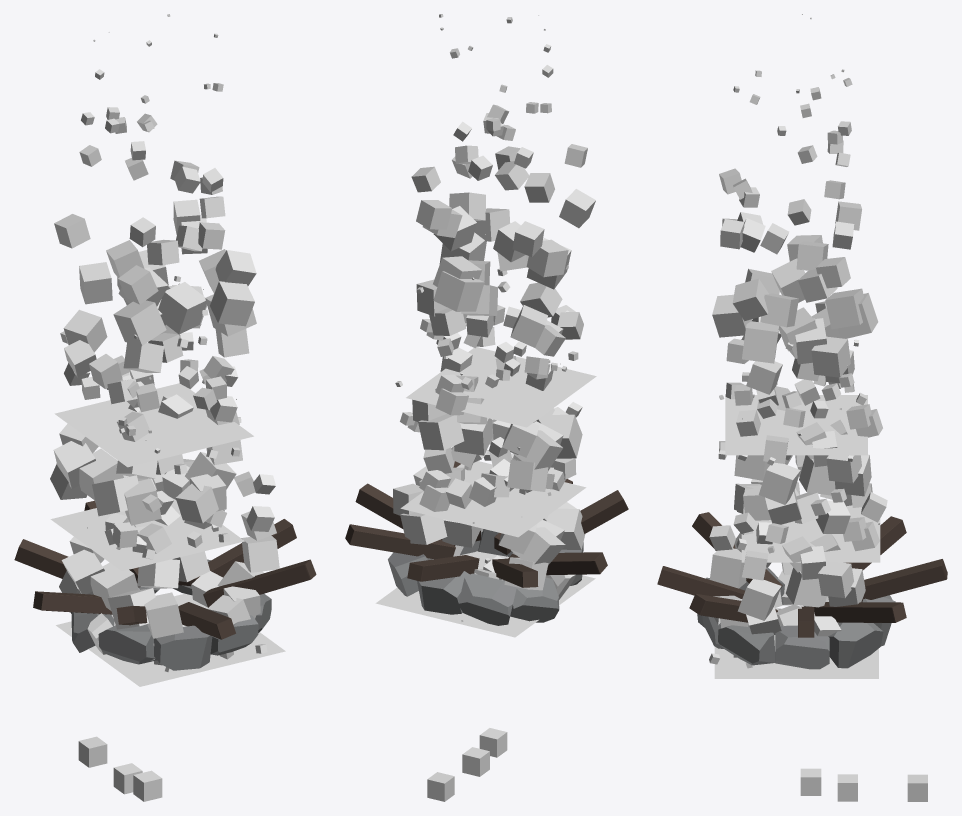
File: campfire.fbx
3 renders of one model, left to right at view 1: azimuth 30°, elevation 25°; view 2: azimuth 150°, elevation 25°; view 3: azimuth 270°, elevation 25°, orthographic. The views are drawn at different scales.
Parts seen in each view (by area): view 1: Smoke, UPFire, FIreBottom, Cube.008, Cube.009, Smoke|SmokeCube|Dupli|146, Cube.016, Smoke|SmokeCube|Dupli|143, Smoke|SmokeCube|Dupli|141, Cube.014, FIreBottom|Cube|Dupli|158, Cube.013 (+48 smaller); view 2: Smoke, UPFire, FIreBottom, Cube.004, Cube.017, Cube.005, Cube.003, Smoke|SmokeCube|Dupli|144, Cube.012, UPFire|FireUPCUBE|Dupli|153, Cube.014, FIreBottom|Cube|Dupli|153 (+45 smaller); view 3: Smoke, FIreBottom, UPFire, Cube.001, Cube.002, Cube.012, Cube.006, Cube.017, Cube.013, Smoke|SmokeCube|Dupli|145, Smoke|SmokeCube|Dupli|149, Smoke|SmokeCube|Dupli|142 (+45 smaller).
Part boxes in pixels (left/top/right/bottom): Smoke: left=54, top=383, right=253, bottom=467; UPFire: left=50, top=496, right=244, bottom=571; FIreBottom: left=56, top=593, right=285, bottom=686; Cube.008: left=154, top=625, right=212, bottom=670; Cube.009: left=98, top=624, right=156, bottom=664; Smoke|SmokeCube|Dupli|146: left=158, top=282, right=206, bottom=334; Cube.016: left=203, top=559, right=316, bottom=607; Smoke|SmokeCube|Dupli|143: left=113, top=300, right=166, bottom=345; Smoke|SmokeCube|Dupli|141: left=210, top=281, right=254, bottom=326; Cube.014: left=33, top=591, right=112, bottom=614; FIreBottom|Cube|Dupli|158: left=144, top=592, right=183, bottom=638; Cube.013: left=178, top=602, right=235, bottom=639; Smoke: left=406, top=347, right=596, bottom=427; UPFire: left=400, top=461, right=586, bottom=537; FIreBottom: left=375, top=551, right=595, bottom=637; Cube.004: left=457, top=573, right=516, bottom=625; Cube.017: left=345, top=524, right=455, bottom=559; Cube.005: left=510, top=577, right=559, bottom=622; Cube.003: left=417, top=571, right=469, bottom=614; Smoke|SmokeCube|Dupli|144: left=433, top=271, right=484, bottom=311; Cube.012: left=407, top=555, right=479, bottom=581; UPFire|FireUPCUBE|Dupli|153: left=418, top=413, right=464, bottom=450; Cube.014: left=508, top=552, right=607, bottom=575; FIreBottom|Cube|Dupli|153: left=400, top=512, right=447, bottom=544; Smoke: left=725, top=395, right=867, bottom=455; FIreBottom: left=714, top=612, right=878, bottom=678; UPFire: left=741, top=505, right=880, bottom=562; Cube.001: left=775, top=625, right=829, bottom=669; Cube.002: left=828, top=622, right=883, bottom=668; Cube.012: left=861, top=559, right=947, bottom=602; Cube.006: left=718, top=624, right=775, bottom=665; Cube.017: left=814, top=602, right=906, bottom=622; Cube.013: left=657, top=566, right=744, bottom=598; Smoke|SmokeCube|Dupli|145: left=742, top=321, right=779, bottom=363; Smoke|SmokeCube|Dupli|149: left=811, top=336, right=850, bottom=377; Smoke|SmokeCube|Dupli|142: left=825, top=288, right=863, bottom=329.
Size of what is drawn, in the model's own units: 67.48 by 198 by 68.17.
